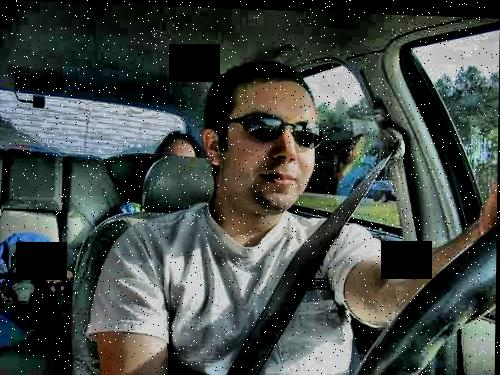seatbelt: (254, 133, 407, 334)
